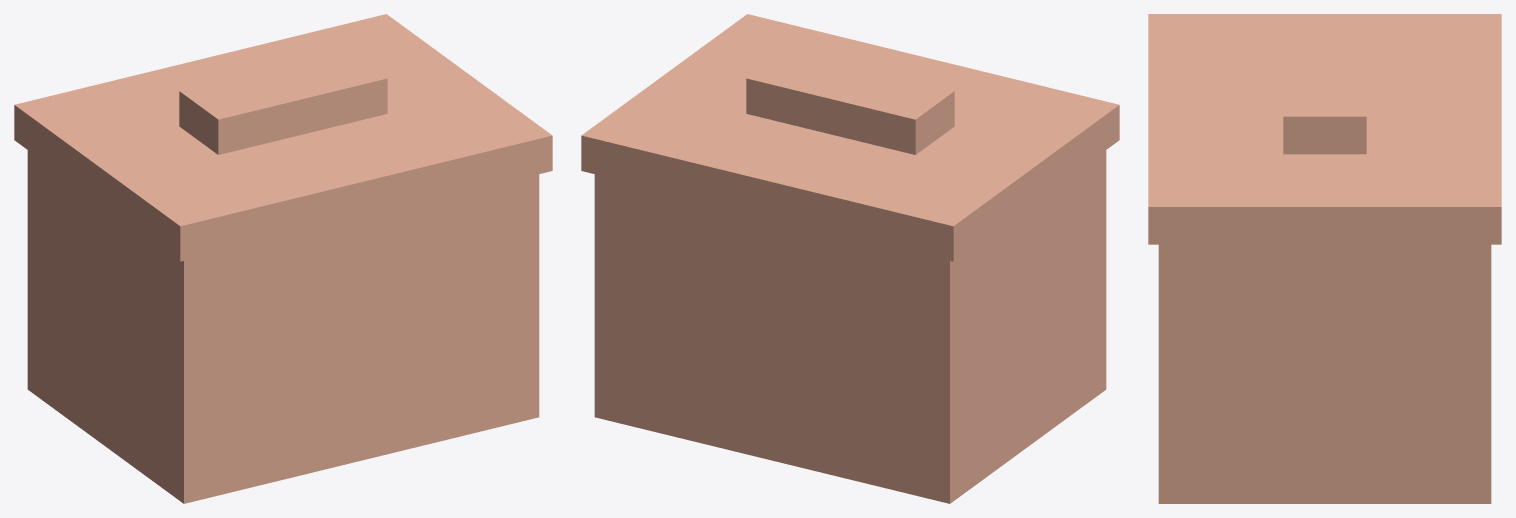
Rendered from product_ferment_carton.glb.
3 views of the same model, side by side, from view 1: azimuth 30°, elevation 25°; view 2: azimuth 150°, elevation 25°; view 3: azimuth 270°, elevation 25° (orthographic). The views are drawn at different scales.
Visible parts, largest first — view 1: ProductArt_body; view 2: ProductArt_body; view 3: ProductArt_body.
Part boxes in pixels (x1,y1,x2,y2): ProductArt_body: (14, 14, 552, 503); ProductArt_body: (581, 14, 1119, 503); ProductArt_body: (1148, 14, 1501, 503).
Size of the model in its own units: 0.24 by 0.1964 by 0.1855.
